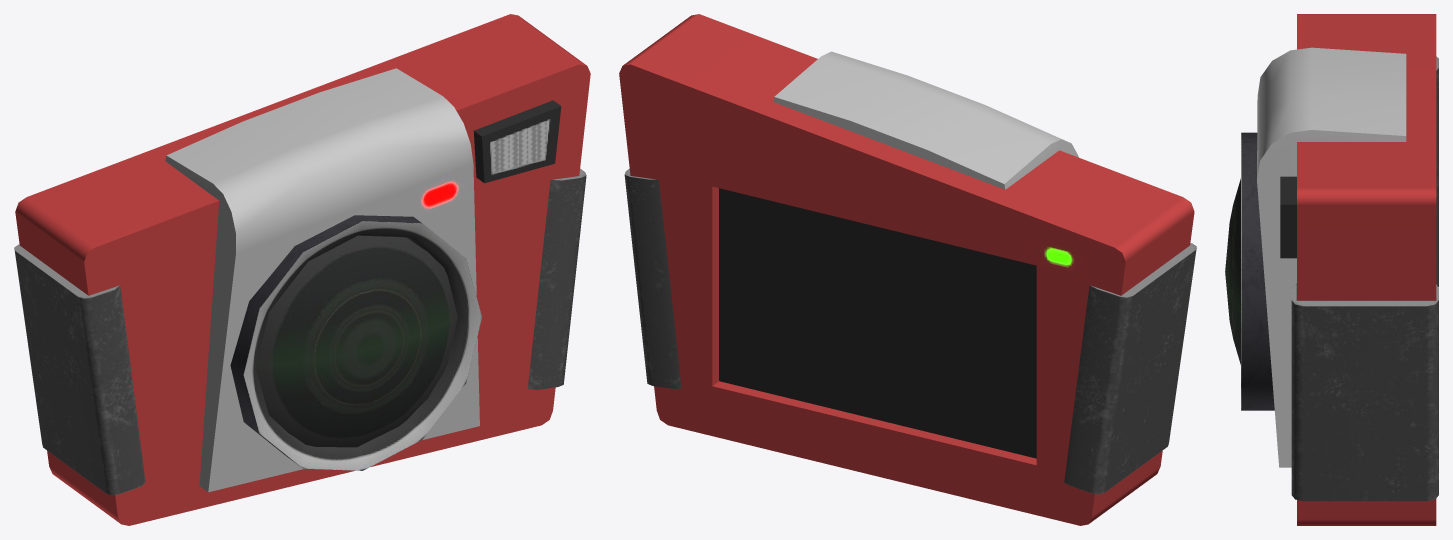
File: camera.glb
The picture shows the model from 3 angles, left to right: view 1: azimuth 30°, elevation 25°; view 2: azimuth 150°, elevation 25°; view 3: azimuth 270°, elevation 25°; orthographic projection.
Parts seen in each view (by area): view 1: CameraPointShoot; view 2: CameraPointShoot; view 3: CameraPointShoot.
Part boxes in pixels (box(x1,y1,x2,y2)): CameraPointShoot: box(14, 14, 590, 525); CameraPointShoot: box(619, 14, 1196, 525); CameraPointShoot: box(1225, 14, 1438, 525).
Bounding box in the file's own units: 21.39 × 14.09 × 7.66.
1 material, 1 textured.
